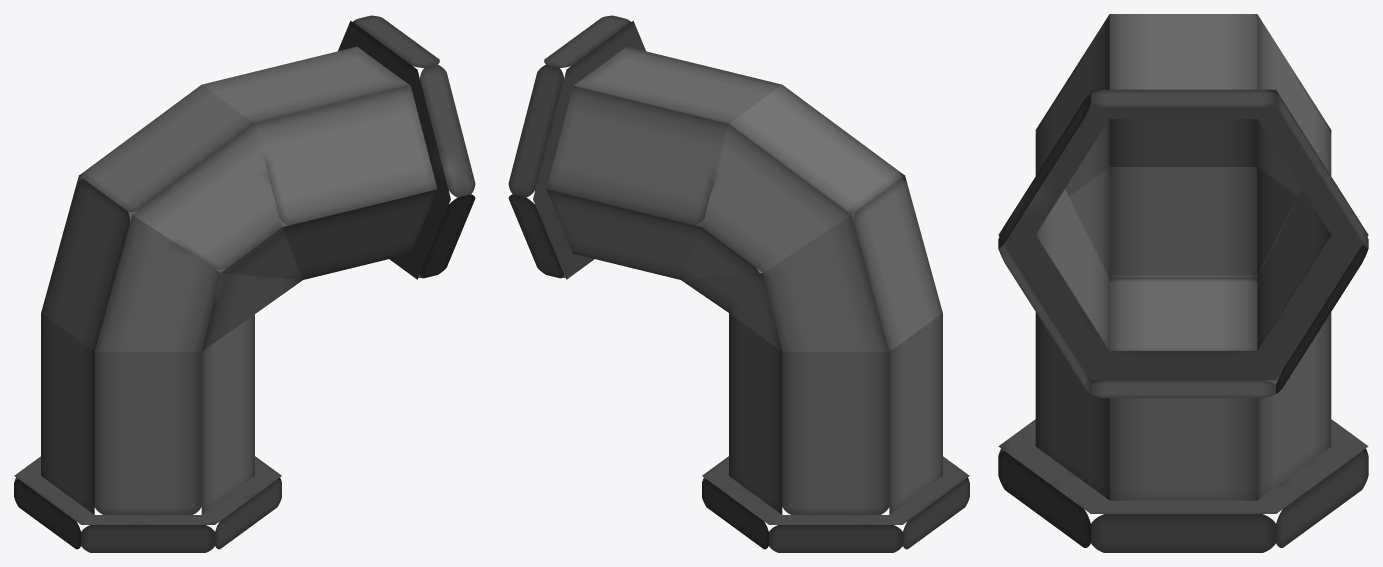
Rendered from Pipe_Angled_Small.fbx.
3 renders of one model, left to right at view 1: azimuth 30°, elevation 25°; view 2: azimuth 150°, elevation 25°; view 3: azimuth 270°, elevation 25°, orthographic. The views are drawn at different scales.
Parts seen in each view (by area): view 1: Small_Angled_Pipe; view 2: Small_Angled_Pipe; view 3: Small_Angled_Pipe.
Part boxes in pixels (x1,y1,x2,y2): Small_Angled_Pipe: (14, 15, 475, 552); Small_Angled_Pipe: (508, 15, 969, 552); Small_Angled_Pipe: (998, 14, 1368, 552).
Bounding box in the file's own units: 68.54 × 72.36 × 43.78.
